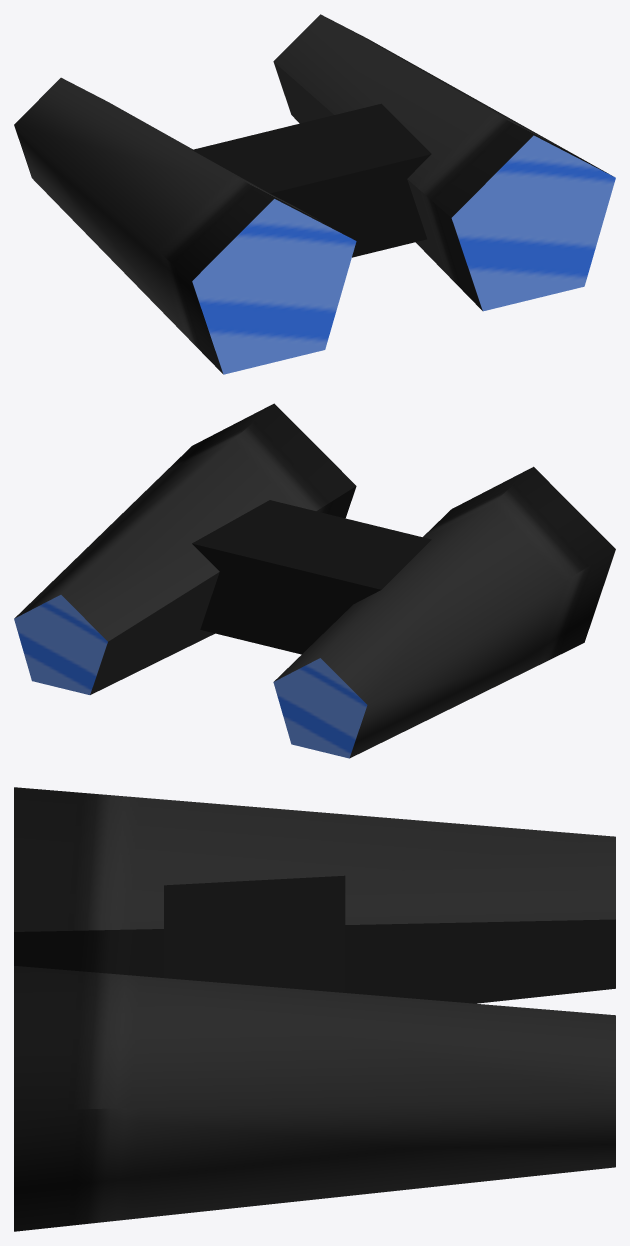
The model's file is Binoculars.fbx.
3 views of the same model, one above another, from view 1: azimuth 30°, elevation 25°; view 2: azimuth 150°, elevation 25°; view 3: azimuth 270°, elevation 25° (orthographic). The views are drawn at different scales.
Parts seen in each view (by area): view 1: Maya_File_Assets:TexturedAssetsCurrent:Hanifen_Quinton_Week7; view 2: Maya_File_Assets:TexturedAssetsCurrent:Hanifen_Quinton_Week7; view 3: Maya_File_Assets:TexturedAssetsCurrent:Hanifen_Quinton_Week7.
Part boxes in pixels (x1=…): Maya_File_Assets:TexturedAssetsCurrent:Hanifen_Quinton_Week7: x1=14, y1=14, x2=615, y2=374; Maya_File_Assets:TexturedAssetsCurrent:Hanifen_Quinton_Week7: x1=14, y1=403, x2=615, y2=758; Maya_File_Assets:TexturedAssetsCurrent:Hanifen_Quinton_Week7: x1=14, y1=787, x2=615, y2=1231.
Size of the model in its own units: 0.0821 by 0.0303 by 0.0716.
